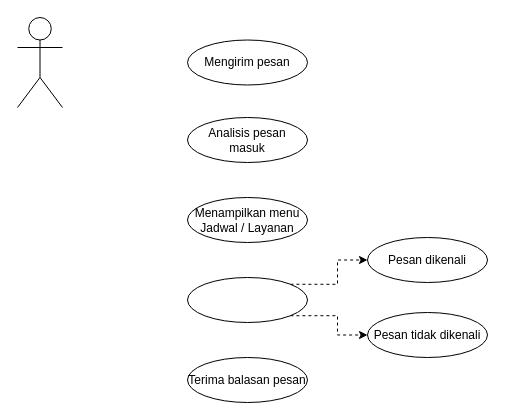
Some shapes in this 505 by 420 pixel diagram are drawn without their labels. The shapes that lost their labels are listed below. From the top down, each one's box as (x1, y1, x2, y2) in pixels, then its label:
(16, 16, 62, 108): Actor
(186, 276, 308, 322): Input pilihan
